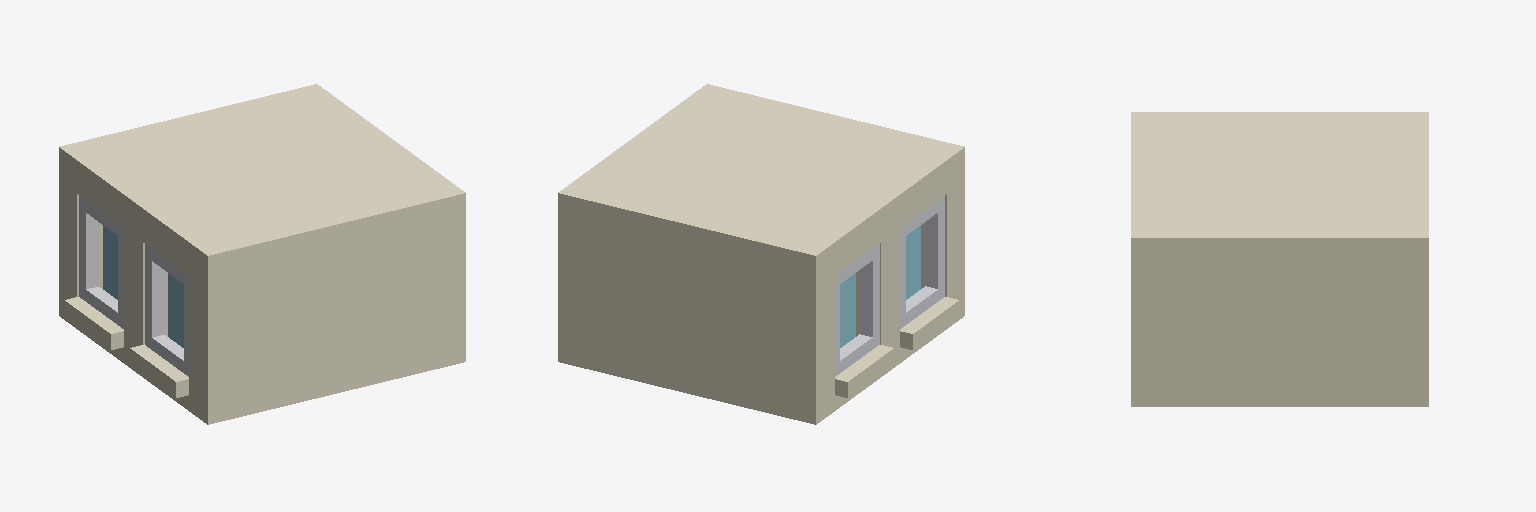
The model's file is modularBuildings_034.obj.
3 views of the same model, side by side, from view 1: azimuth 30°, elevation 25°; view 2: azimuth 150°, elevation 25°; view 3: azimuth 270°, elevation 25° (orthographic).
Visible parts, largest first — view 1: Mesh1_Group1_Model, Mesh1_Group1_Model.002, Mesh1_Group1_Model.001; view 2: Mesh1_Group1_Model, Mesh1_Group1_Model.002, Mesh1_Group1_Model.001; view 3: Mesh1_Group1_Model.
Part boxes in pixels (left/top/right/bottom): Mesh1_Group1_Model: left=59, top=84, right=465, bottom=424; Mesh1_Group1_Model.002: left=79, top=196, right=123, bottom=328; Mesh1_Group1_Model.001: left=145, top=244, right=188, bottom=376; Mesh1_Group1_Model: left=558, top=84, right=964, bottom=424; Mesh1_Group1_Model.002: left=835, top=243, right=879, bottom=376; Mesh1_Group1_Model.001: left=900, top=196, right=944, bottom=328; Mesh1_Group1_Model: left=1131, top=112, right=1428, bottom=406.
Size of the model in its own units: 1.05 by 0.625 by 1.